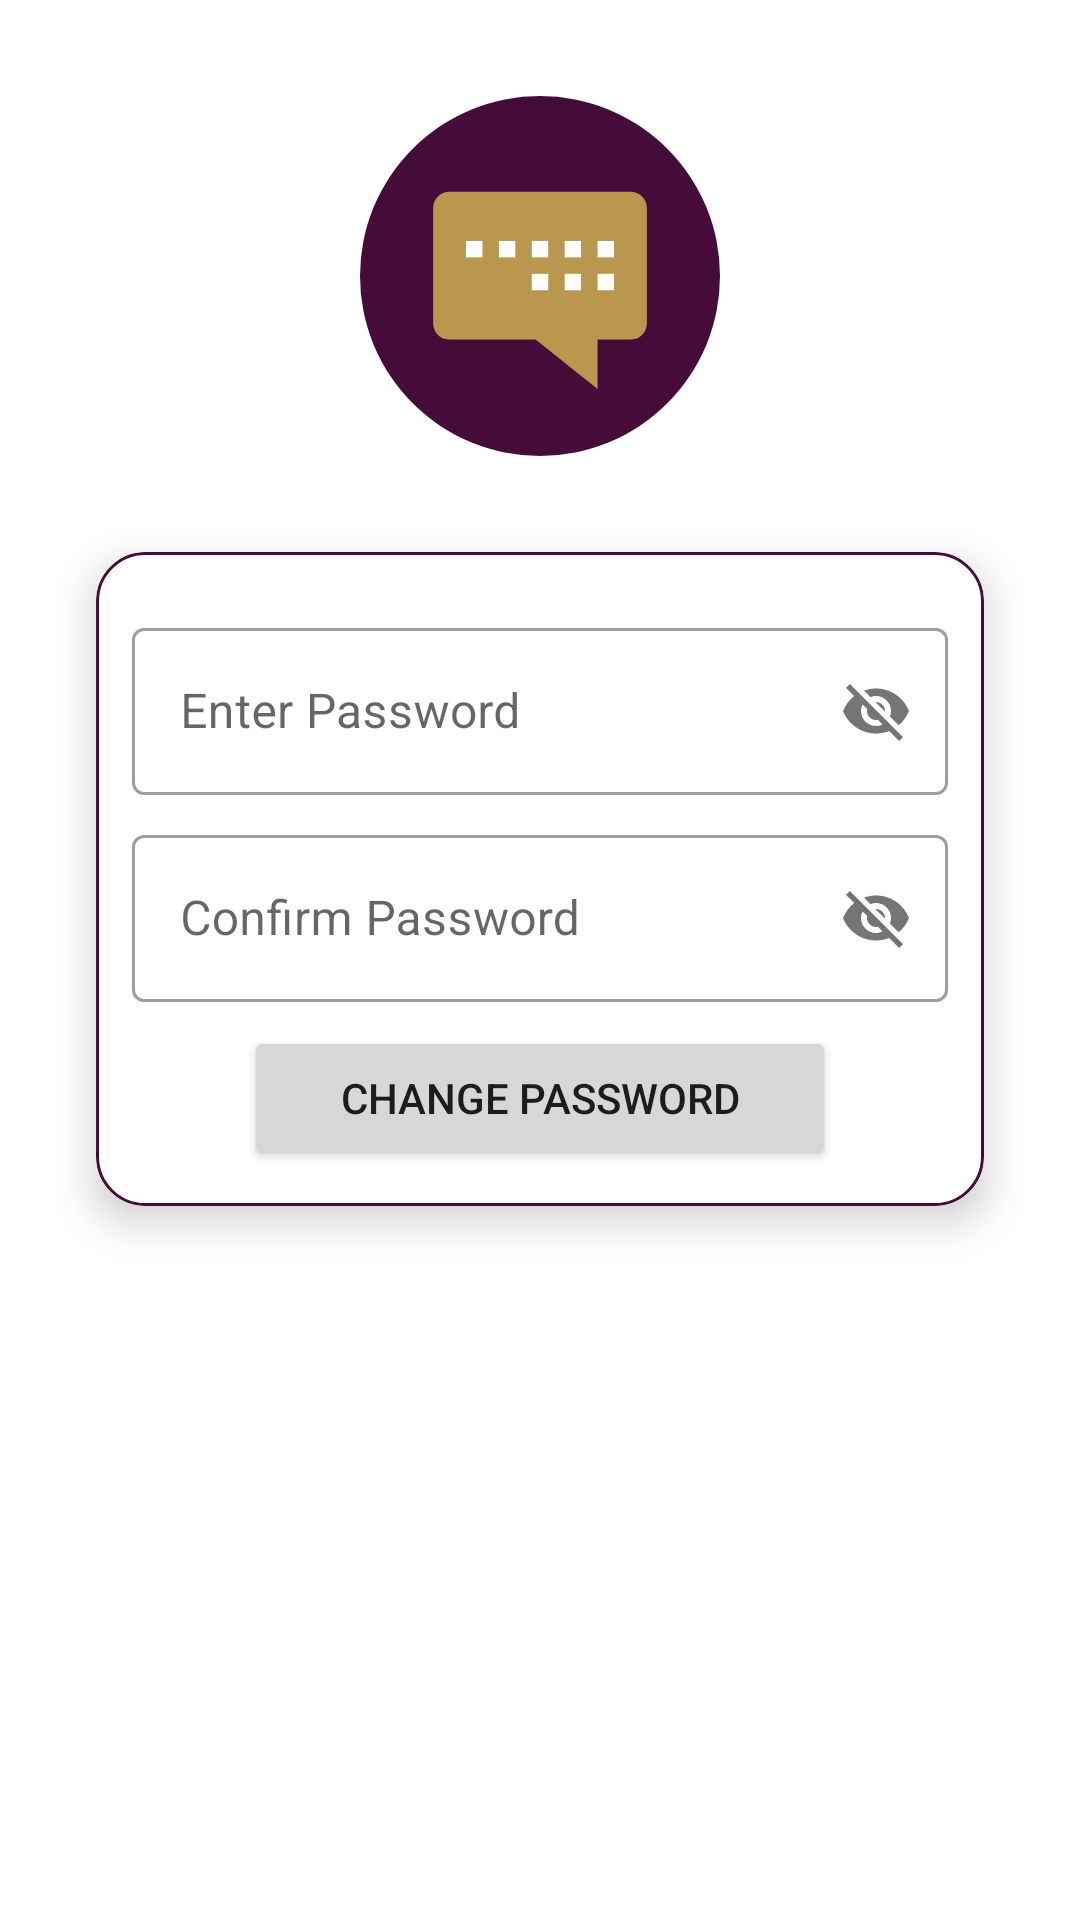

Named icons in this screenshot (1080×1920) and their bounding boxes, (x1, y1, x2, y2):
bubble: (360, 96, 720, 456)
